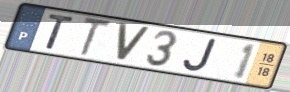1: (233, 43, 258, 80)
3: (144, 30, 181, 69)
J: (181, 37, 219, 73)
T: (78, 16, 114, 58), (44, 13, 77, 52)
V: (115, 21, 153, 64)
